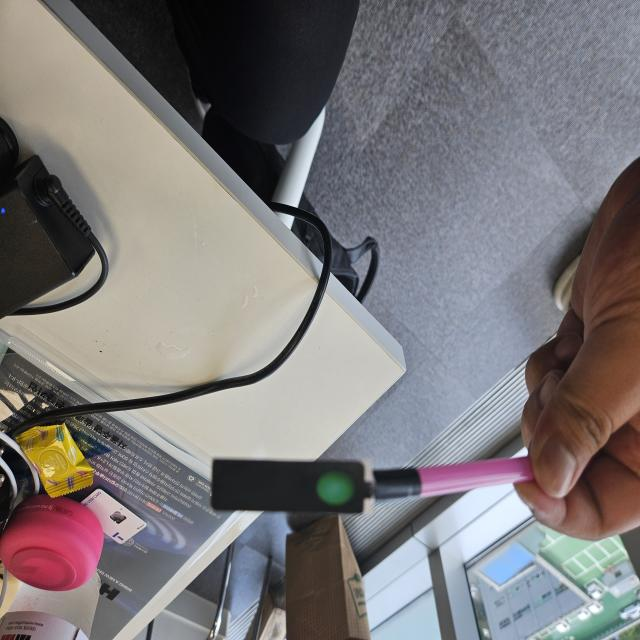traffic light: (212, 458, 375, 517)
